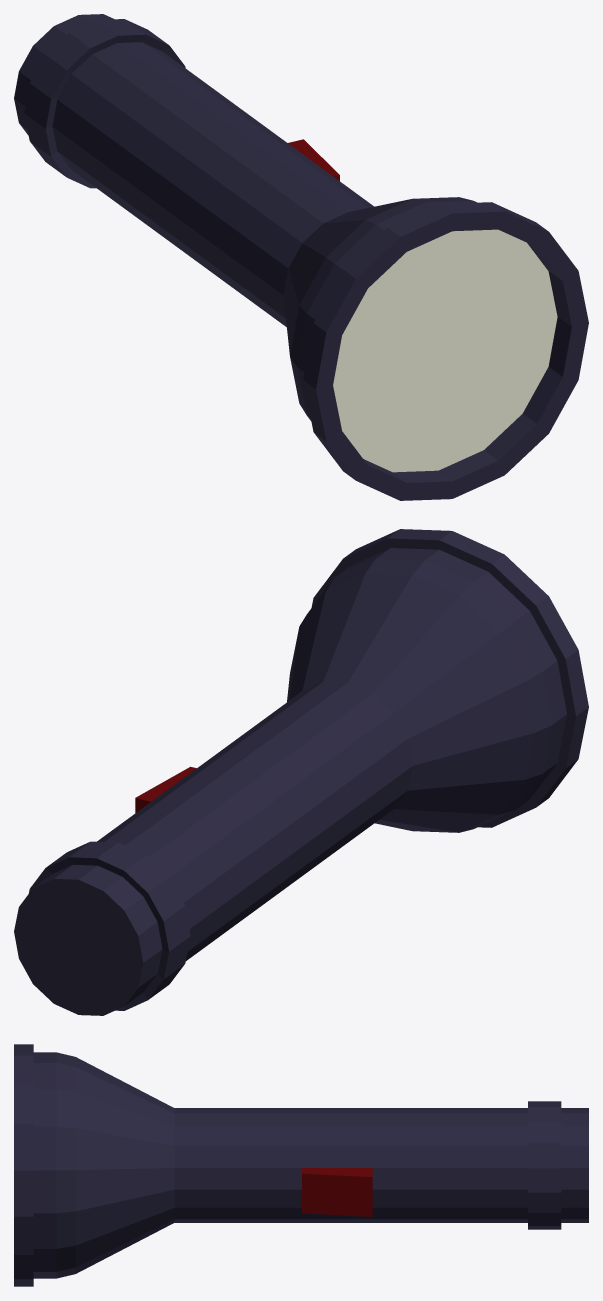
The model's file is flashlight_case.fbx.
3 views of the same model, one above another, from view 1: azimuth 30°, elevation 25°; view 2: azimuth 150°, elevation 25°; view 3: azimuth 270°, elevation 25° (orthographic). The views are drawn at different scales.
Parts seen in each view (by area): view 1: flashlight_case, flashlight_bulb; view 2: flashlight_case, flashlight_powerbutton; view 3: flashlight_case, flashlight_powerbutton.
Part boxes in pixels (<box>): flashlight_case: <box>14,14,588,500</box>; flashlight_bulb: <box>333,229,557,472</box>; flashlight_case: <box>14,529,588,1015</box>; flashlight_powerbutton: <box>135,766,196,812</box>; flashlight_case: <box>14,1044,588,1286</box>; flashlight_powerbutton: <box>302,1168,372,1216</box>.
Bounding box in the file's own units: 422 × 422 × 1002.
